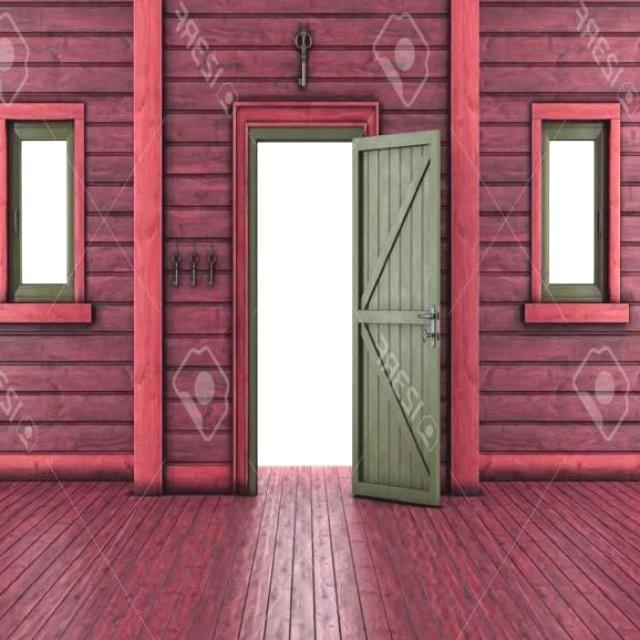door: (350, 128, 442, 506)
